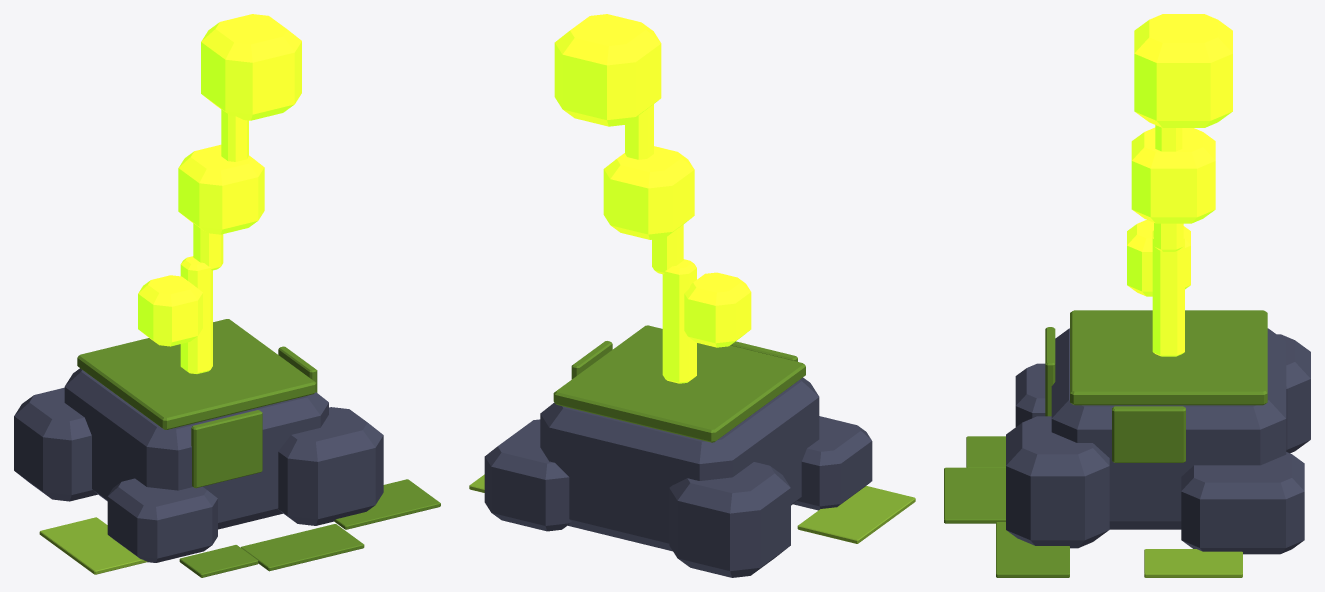
The model's file is Bogheart_BogSprout.glb.
3 views of the same model, side by side, from view 1: azimuth 30°, elevation 25°; view 2: azimuth 150°, elevation 25°; view 3: azimuth 270°, elevation 25° (orthographic). The views are drawn at different scales.
Visible parts, largest first — view 1: BogSprout_rock_core, BogSprout_moss_top, BogSprout_rock_chunk_2, BogSprout_leaf_top_Glow, BogSprout_rock_chunk_3, BogSprout_rock_chunk_0, BogSprout_leaf_mid_Glow, BogSprout_moss_drip_front, BogSprout_leaf_low_Glow, BogSprout_splat_1, BogSprout_splat_2, BogSprout_stalk_lower_Glow (+5 smaller); view 2: BogSprout_rock_core, BogSprout_moss_top, BogSprout_rock_chunk_0, BogSprout_leaf_top_Glow, BogSprout_leaf_mid_Glow, BogSprout_rock_chunk_1, BogSprout_rock_chunk_3, BogSprout_leaf_low_Glow, BogSprout_splat_1, BogSprout_stalk_lower_Glow, BogSprout_stalk_upper_Glow, BogSprout_stalk_mid_Glow (+1 smaller); view 3: BogSprout_moss_top, BogSprout_rock_core, BogSprout_rock_chunk_2, BogSprout_rock_chunk_1, BogSprout_leaf_top_Glow, BogSprout_leaf_mid_Glow, BogSprout_moss_drip_side, BogSprout_stalk_lower_Glow, BogSprout_splat_2, BogSprout_splat_0, BogSprout_splat_3, BogSprout_rock_chunk_0 (+6 smaller).
Part boxes in pixels (x1,y1,x2,y2): BogSprout_rock_core: (64,368,328,529); BogSprout_moss_top: (77,319,316,429); BogSprout_rock_chunk_2: (278,407,383,525); BogSprout_leaf_top_Glow: (201,14,301,120); BogSprout_rock_chunk_3: (107,478,217,562); BogSprout_rock_chunk_0: (14,387,97,501); BogSprout_leaf_mid_Glow: (178,144,264,234); BogSprout_moss_drip_front: (191,410,262,488); BogSprout_leaf_low_Glow: (138,275,202,346); BogSprout_splat_1: (39,517,147,574); BogSprout_splat_2: (241,524,364,571); BogSprout_stalk_lower_Glow: (180,256,212,373); BogSprout_rock_core: (540,377,819,551); BogSprout_moss_top: (553,325,805,442); BogSprout_rock_chunk_0: (669,462,790,577); BogSprout_leaf_top_Glow: (554,14,661,126); BogSprout_leaf_mid_Glow: (603,146,694,239); BogSprout_rock_chunk_1: (484,419,571,531); BogSprout_rock_chunk_3: (793,416,872,510); BogSprout_leaf_low_Glow: (684,272,751,347); BogSprout_splat_1: (797,486,915,543); BogSprout_stalk_lower_Glow: (662,259,696,383); BogSprout_stalk_upper_Glow: (625,104,653,159); BogSprout_stalk_mid_Glow: (652,224,683,274); BogSprout_moss_top: (1070,310,1267,405); BogSprout_rock_core: (1051,328,1286,529); BogSprout_rock_chunk_2: (1006,416,1109,548); BogSprout_rock_chunk_1: (1181,452,1304,554); BogSprout_leaf_top_Glow: (1134,14,1232,127); BogSprout_leaf_mid_Glow: (1131,127,1215,223); BogSprout_moss_drip_side: (1112,406,1185,462); BogSprout_stalk_lower_Glow: (1152,230,1184,356); BogSprout_splat_2: (944,467,1005,523); BogSprout_splat_0: (996,522,1069,577); BogSprout_splat_3: (1144,549,1242,577); BogSprout_rock_chunk_0: (1277,334,1310,453).
Size of the model in its own units: 1.72 by 2.2 by 1.48.
